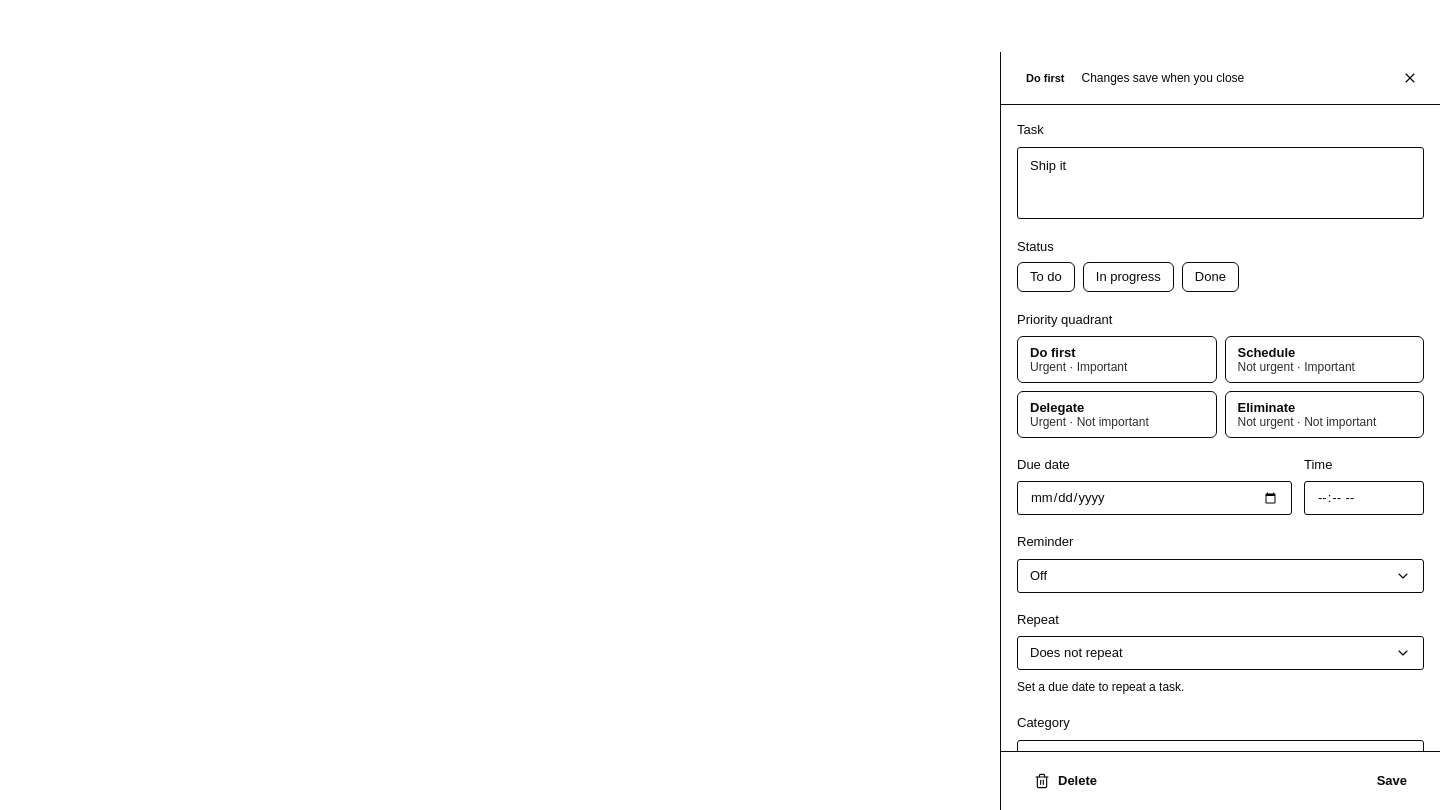
Test: TaskDetailPanel › is a peek panel: no scrim, and it names the list in the delete confirmation
Click the button "Delete" at (1066, 781), box [1017,764,1114,798]
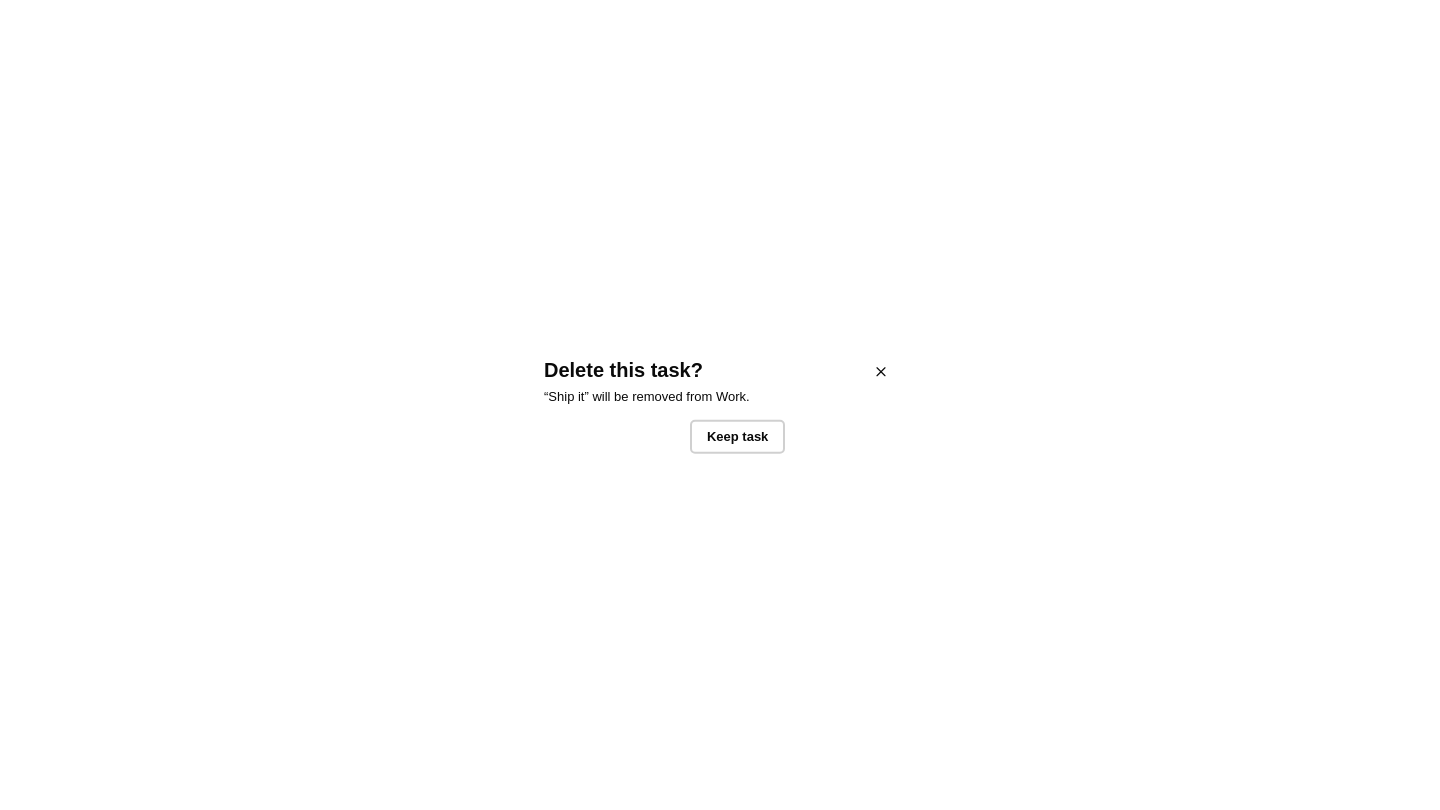
Expected: the text "“Ship it” will be removed from Work." is shown, [544,389,750,404]
